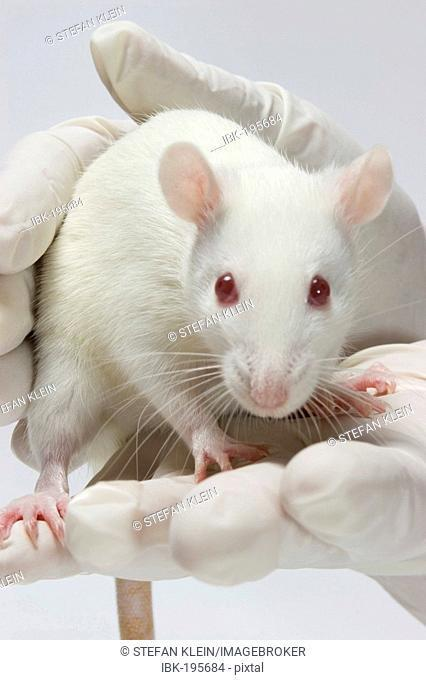rat: (2, 108, 394, 550)
